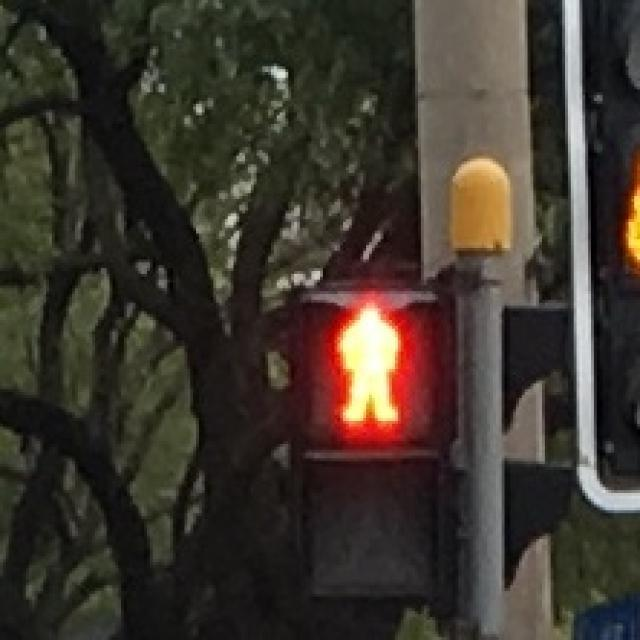red-crossing: (304, 298, 434, 442)
